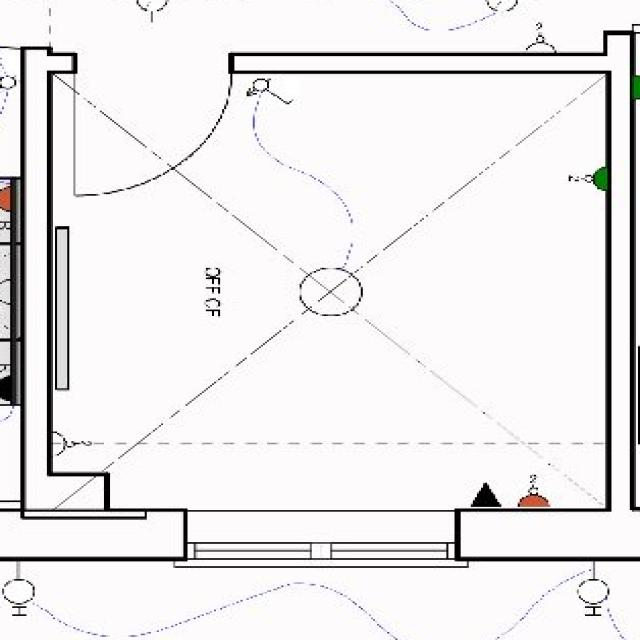Doors: (68, 62, 240, 203)
